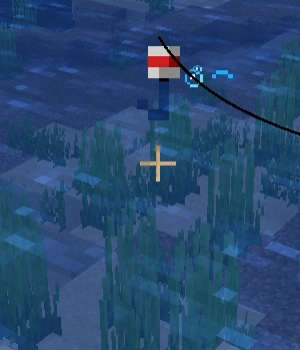up: (129, 38, 188, 132)
